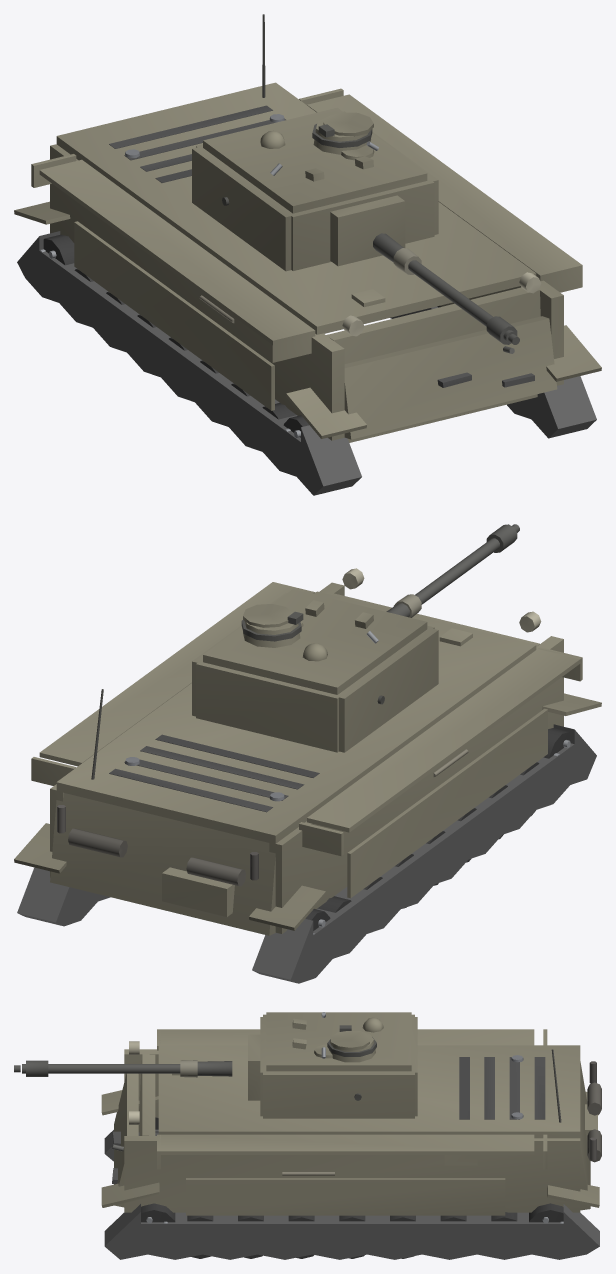
File: blackprince.glb
3 renders of one model, top to bottom at view 1: azimuth 30°, elevation 25°; view 2: azimuth 150°, elevation 25°; view 3: azimuth 270°, elevation 25°, orthographic. The views are drawn at different scales.
Visible parts, largest first — view 1: hullSide, hullTop, tracks, lowerPlate, turretRoof, glacis, turretSide, turretFront, mantlet, barrel, wheel8; view 2: hullSide, hullTop, tracks, hullRear, turretRoof, turretRear, turretSide, barrel, glacis; view 3: hullSide, hullTop, tracks, turretRoof, turretSide, barrel, hullRear, lowerPlate, glacis, mantlet, wheel17, wheel16 (+2 smaller).
Part boxes in pixels (bbox=[...]): hullSide: bbox=[31, 88, 582, 440]; hullTop: bbox=[56, 82, 536, 334]; tracks: bbox=[14, 201, 601, 495]; lowerPlate: bbox=[344, 316, 557, 439]; turretRoof: bbox=[203, 107, 427, 213]; glacis: bbox=[326, 287, 540, 442]; turretSide: bbox=[192, 111, 438, 271]; turretFront: bbox=[287, 180, 434, 270]; mantlet: bbox=[330, 195, 405, 266]; barrel: bbox=[373, 233, 519, 344]; wheel8: bbox=[39, 234, 74, 265]; hullSide: bbox=[31, 568, 582, 933]; hullTop: bbox=[56, 591, 536, 843]; tracks: bbox=[14, 693, 601, 983]; hullRear: bbox=[50, 689, 275, 935]; turretRoof: bbox=[203, 589, 427, 694]; turretRear: bbox=[196, 659, 343, 752]; turretSide: bbox=[192, 593, 438, 752]; barrel: bbox=[386, 524, 519, 617]; glacis: bbox=[332, 593, 539, 646]; hullSide: bbox=[124, 1029, 580, 1215]; hullTop: bbox=[158, 1045, 580, 1138]; tracks: bbox=[101, 1090, 599, 1259]; turretRoof: bbox=[266, 1012, 411, 1071]; turretSide: bbox=[263, 1014, 414, 1118]; barrel: bbox=[14, 1060, 232, 1077]; hullRear: bbox=[551, 1049, 601, 1210]; lowerPlate: bbox=[114, 1073, 138, 1207]; glacis: bbox=[112, 1054, 180, 1183]; mantlet: bbox=[248, 1034, 260, 1100]; wheel17: bbox=[529, 1203, 563, 1223]; wheel16: bbox=[141, 1203, 175, 1223].
Bounding box in the file's own units: 4.38 × 3.17 × 8.9.
